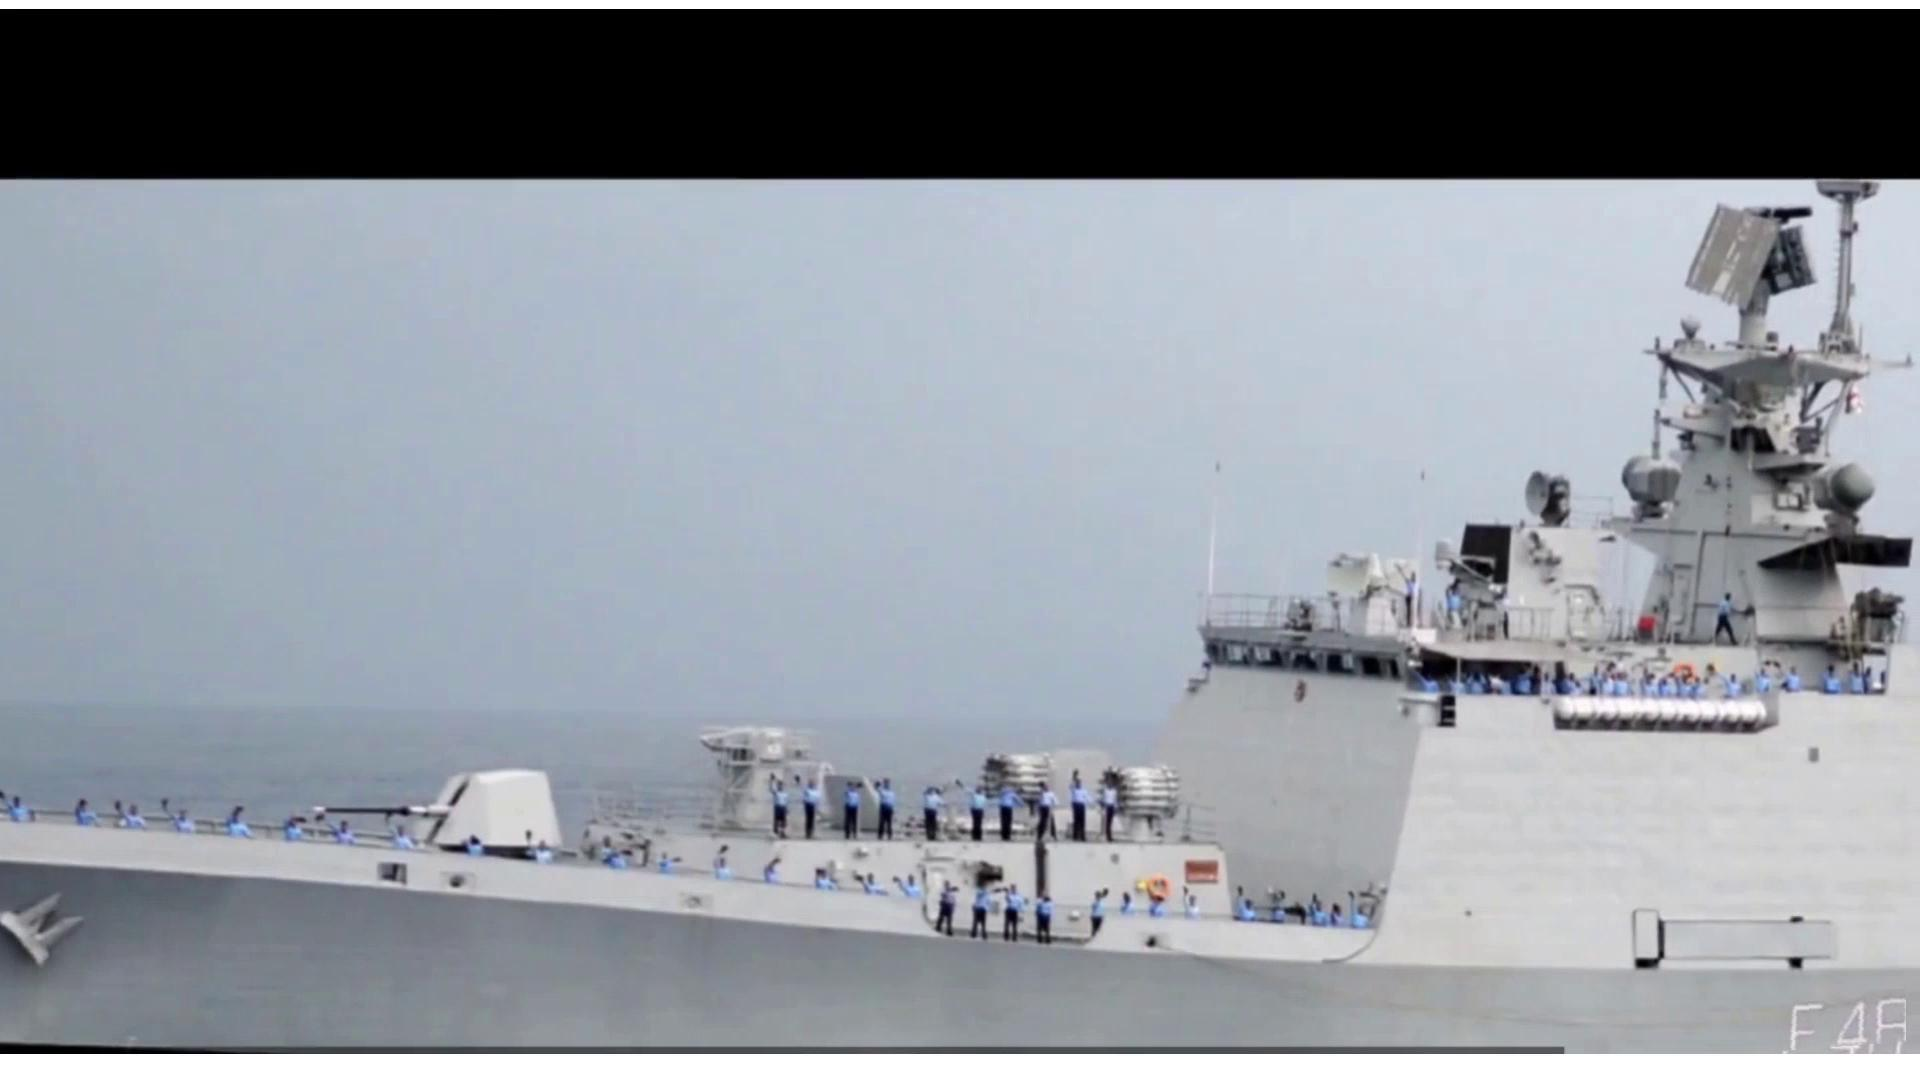OCR: (1772, 989, 1906, 1051)
